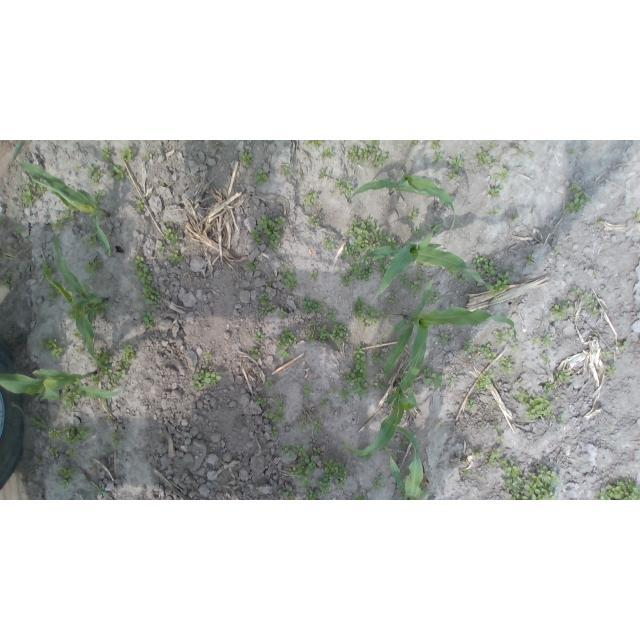Maize: (383, 278, 515, 391), (368, 224, 501, 307), (344, 334, 429, 457), (17, 160, 111, 259), (47, 235, 110, 368), (348, 173, 457, 231), (1, 368, 124, 404), (387, 426, 425, 500), (12, 140, 32, 161)
Weeds: (341, 217, 382, 260), (343, 346, 370, 399), (523, 464, 561, 501), (513, 388, 555, 420), (318, 459, 347, 495), (594, 479, 640, 500), (289, 455, 317, 487), (353, 298, 379, 330), (21, 177, 48, 207), (500, 458, 523, 492), (258, 214, 286, 240), (93, 350, 114, 383), (191, 366, 221, 388), (358, 145, 386, 168), (565, 191, 591, 214), (134, 256, 153, 285), (62, 425, 89, 445), (141, 285, 161, 311), (473, 254, 496, 276), (265, 401, 287, 424), (423, 368, 446, 389), (349, 261, 372, 282), (475, 368, 495, 392), (473, 343, 497, 363), (551, 300, 573, 321), (276, 328, 296, 349), (61, 389, 80, 411), (58, 465, 75, 489), (280, 269, 299, 290), (475, 149, 493, 170), (87, 163, 104, 185), (303, 298, 326, 314), (121, 343, 135, 369), (331, 323, 349, 343), (491, 274, 509, 293), (109, 164, 127, 182), (499, 357, 516, 376), (46, 279, 60, 302), (162, 229, 178, 248), (491, 167, 510, 183), (485, 448, 501, 467), (112, 364, 126, 385), (86, 486, 110, 498), (496, 330, 515, 345), (41, 259, 55, 279), (120, 146, 136, 163), (30, 415, 48, 430), (85, 260, 104, 274), (379, 232, 396, 247), (141, 311, 155, 329), (316, 325, 330, 343), (38, 337, 57, 350), (50, 218, 66, 233), (62, 207, 78, 222), (427, 288, 442, 304), (341, 180, 356, 196), (239, 152, 253, 169), (1, 272, 15, 289), (581, 293, 598, 307), (83, 233, 98, 248), (358, 447, 373, 462), (338, 389, 354, 403), (254, 169, 268, 185), (372, 348, 385, 365), (168, 251, 183, 265), (257, 304, 276, 315), (487, 186, 503, 199), (450, 155, 463, 171), (110, 430, 122, 447), (304, 191, 317, 206), (556, 370, 571, 383), (281, 444, 296, 457), (348, 146, 359, 163), (305, 326, 316, 343), (302, 383, 314, 398), (319, 392, 330, 408), (509, 491, 528, 500), (93, 189, 106, 202), (341, 275, 354, 288), (95, 302, 109, 314), (101, 147, 113, 161), (323, 310, 337, 322), (51, 348, 66, 359), (409, 281, 421, 294), (323, 238, 335, 251), (308, 214, 320, 227), (438, 333, 451, 345), (606, 364, 618, 377), (616, 339, 629, 351), (284, 488, 296, 501), (373, 475, 384, 489), (462, 341, 473, 355), (399, 273, 409, 288), (251, 230, 261, 245), (305, 140, 323, 148), (430, 221, 442, 233), (296, 421, 308, 433), (268, 240, 280, 252), (48, 429, 61, 440), (378, 264, 391, 275), (433, 153, 444, 166), (408, 209, 418, 223), (543, 333, 553, 347), (313, 419, 322, 434), (374, 379, 386, 390), (323, 148, 335, 159), (372, 255, 384, 266), (66, 308, 76, 321), (543, 382, 557, 391), (413, 226, 424, 237), (361, 257, 372, 268), (307, 489, 318, 500), (135, 199, 145, 211), (64, 447, 76, 457), (420, 483, 430, 495), (296, 444, 306, 456), (278, 349, 290, 359), (245, 260, 257, 270), (156, 241, 165, 254), (282, 167, 292, 178), (530, 335, 540, 346), (541, 353, 551, 364), (268, 427, 278, 438), (257, 397, 268, 407), (254, 331, 265, 341), (460, 270, 469, 282), (417, 270, 426, 282), (265, 376, 274, 388), (353, 492, 366, 500), (389, 290, 397, 303), (49, 444, 59, 454), (509, 341, 519, 351), (587, 307, 597, 317), (601, 351, 612, 360), (260, 293, 269, 304), (468, 398, 476, 410), (471, 450, 483, 458), (568, 184, 580, 192), (632, 209, 640, 221), (417, 260, 426, 270), (432, 140, 441, 150), (252, 348, 261, 358), (82, 304, 90, 315), (510, 213, 518, 224), (204, 352, 213, 361), (280, 261, 289, 270), (278, 308, 287, 317), (450, 170, 458, 180), (33, 481, 43, 489), (571, 286, 581, 294), (319, 169, 326, 180), (15, 225, 23, 234), (310, 270, 318, 279), (313, 447, 322, 455), (272, 394, 280, 403), (403, 439, 410, 449), (142, 152, 150, 160), (74, 163, 82, 171), (489, 141, 497, 149), (379, 310, 387, 318), (557, 414, 564, 423), (497, 435, 504, 444), (463, 469, 472, 476), (490, 424, 500, 430), (410, 140, 420, 146), (382, 446, 390, 453), (526, 254, 533, 262), (369, 140, 380, 145), (265, 279, 271, 288), (493, 209, 500, 216), (553, 246, 559, 254), (528, 151, 536, 157), (519, 146, 524, 155), (450, 378, 455, 387), (327, 172, 332, 181), (75, 330, 81, 337), (450, 270, 457, 276), (493, 401, 499, 408), (335, 179, 342, 185), (568, 149, 574, 156), (77, 347, 83, 353), (435, 422, 441, 428), (36, 460, 42, 465), (427, 496, 434, 500), (599, 221, 606, 225), (104, 446, 109, 451), (332, 388, 337, 393), (165, 221, 171, 225), (593, 269, 596, 276), (393, 453, 397, 458), (478, 237, 483, 241), (162, 329, 166, 333), (310, 320, 314, 324)
